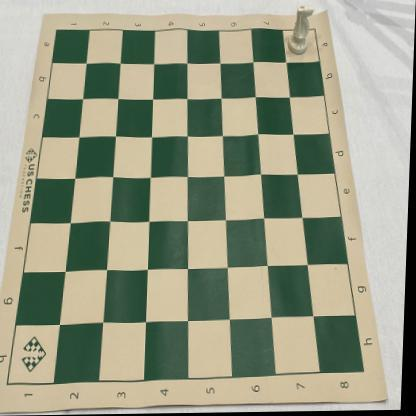white-knight: (288, 5, 314, 57)
